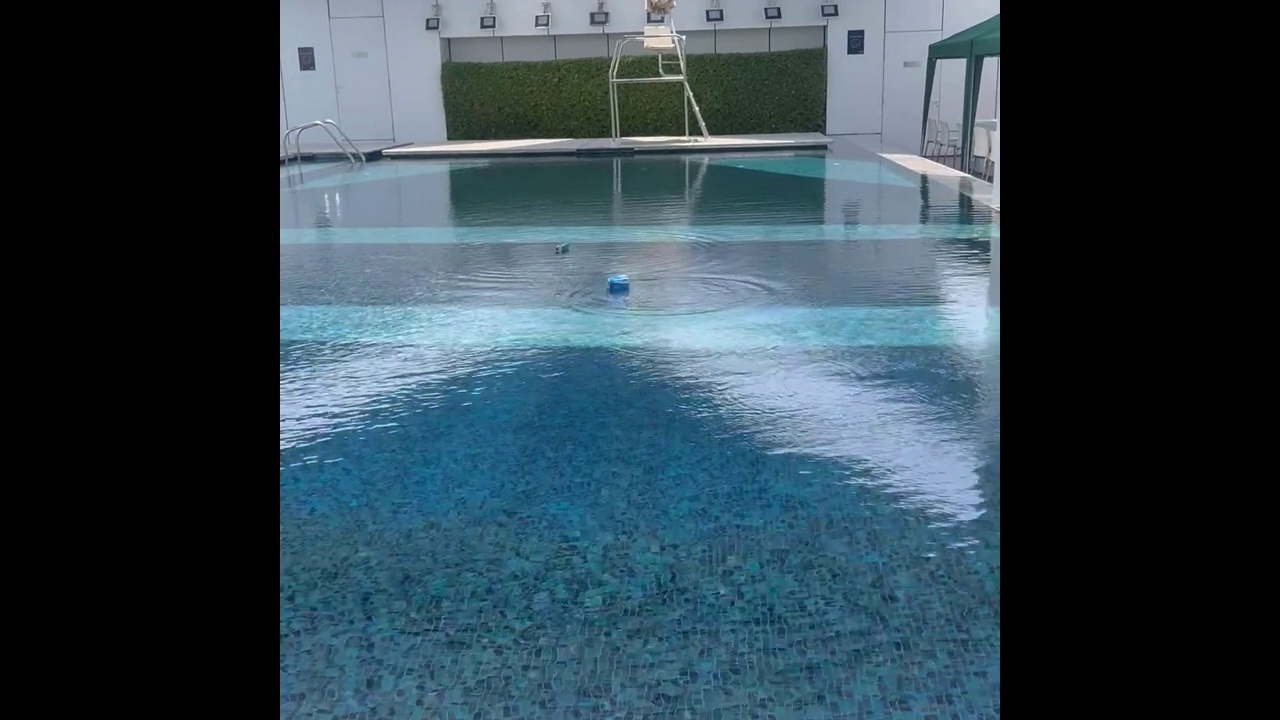debris: (602, 271, 632, 290), (551, 240, 572, 255)
